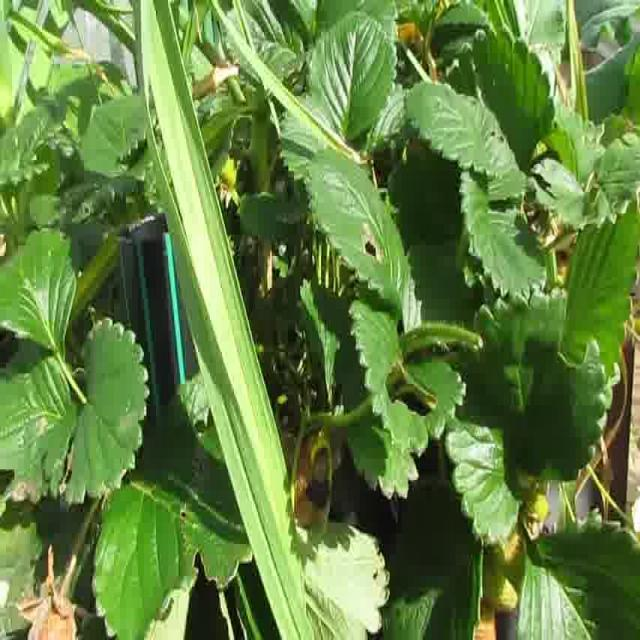Fruta sana: (491, 529, 526, 592), (479, 562, 518, 612), (518, 493, 550, 543), (468, 602, 496, 640), (220, 158, 238, 189)
Moho gris: (18, 546, 77, 640)
